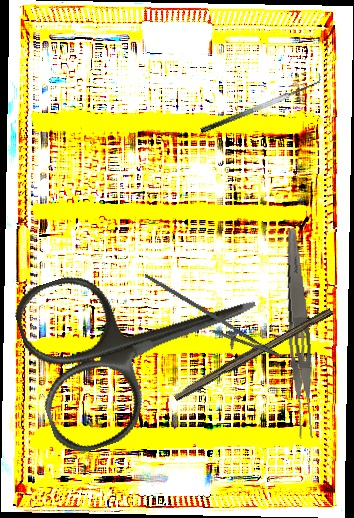Dressing Forceps: (277, 227, 319, 440)
Iris Scissors: (8, 223, 283, 461)
Needle Holder: (131, 273, 291, 370)
Scalpel Handle: (171, 303, 334, 404)
Spatula Surgical: (196, 71, 325, 134)
